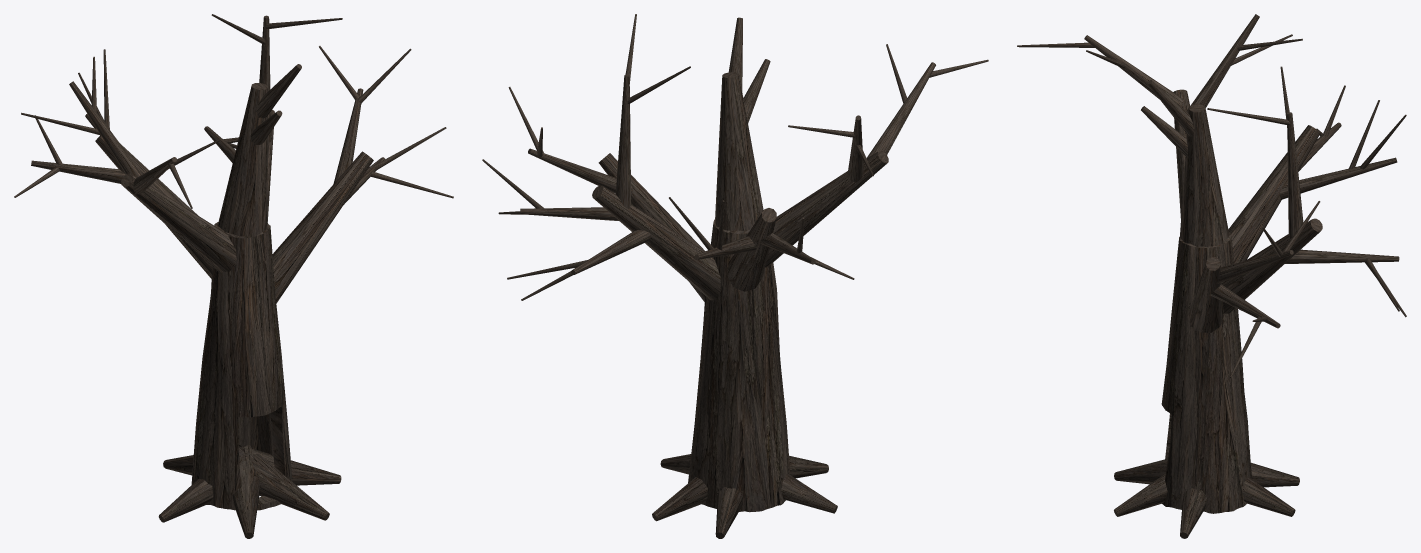
The model's file is hollow-standing-tree-v01-photo.glb.
3 views of the same model, side by side, from view 1: azimuth 30°, elevation 25°; view 2: azimuth 150°, elevation 25°; view 3: azimuth 270°, elevation 25° (orthographic). The views are drawn at different scales.
Visible parts, largest first — view 1: wood; view 2: wood; view 3: wood.
Part boxes in pixels (<box>): wood: <box>14,14,453,538</box>; wood: <box>482,14,988,538</box>; wood: <box>1017,14,1406,538</box>.
Size of the model in its own units: 5.46 by 5.82 by 4.69.
1 material, 1 textured.
